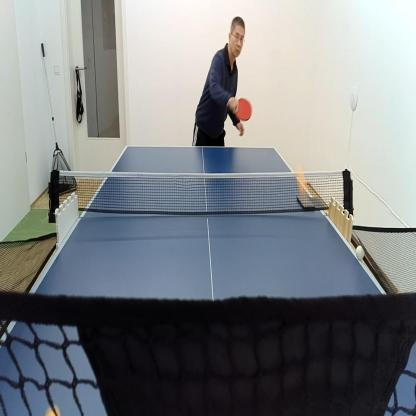Ball: (296, 170, 308, 194), (45, 402, 63, 416), (355, 243, 365, 262)
